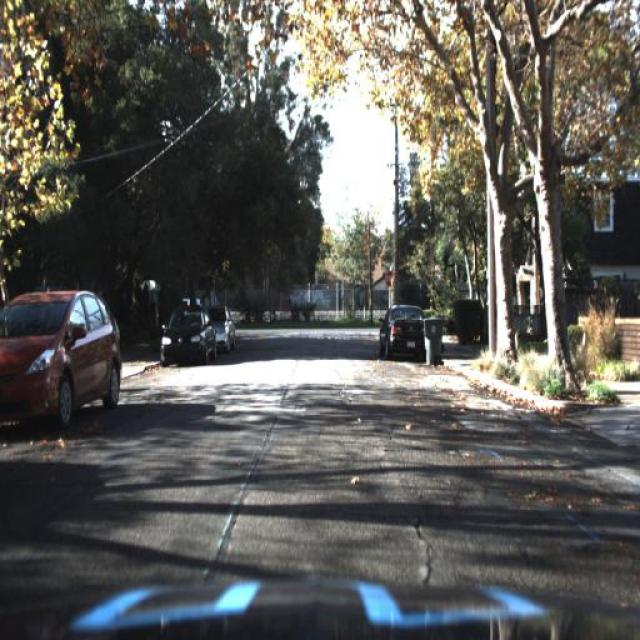car: (0, 274, 136, 460), (0, 288, 128, 438), (376, 302, 432, 367), (156, 306, 219, 362), (207, 303, 241, 359), (213, 306, 234, 358)
